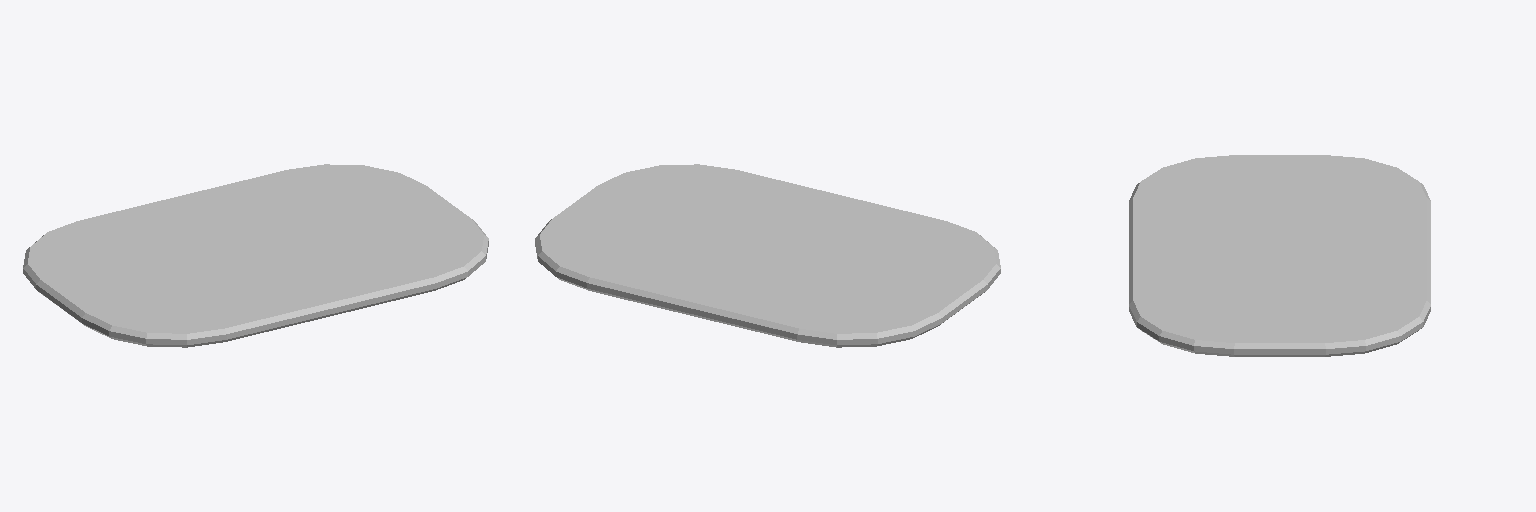
File: rug_oval_A.obj
3 renders of one model, left to right at view 1: azimuth 30°, elevation 25°; view 2: azimuth 150°, elevation 25°; view 3: azimuth 270°, elevation 25°, orthographic.
Visible parts, largest first — view 1: rug_oval_A_Cube.021; view 2: rug_oval_A_Cube.021; view 3: rug_oval_A_Cube.021.
Part boxes in pixels (bbox=[...]): rug_oval_A_Cube.021: bbox=[23, 164, 488, 347]; rug_oval_A_Cube.021: bbox=[535, 164, 1000, 347]; rug_oval_A_Cube.021: bbox=[1129, 155, 1430, 356].
Bounding box in the file's own units: 3 × 0.1 × 2.